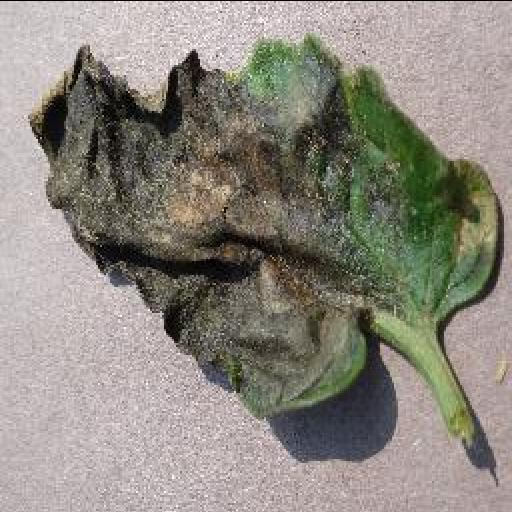disease_tomato: (24, 38, 502, 412)
